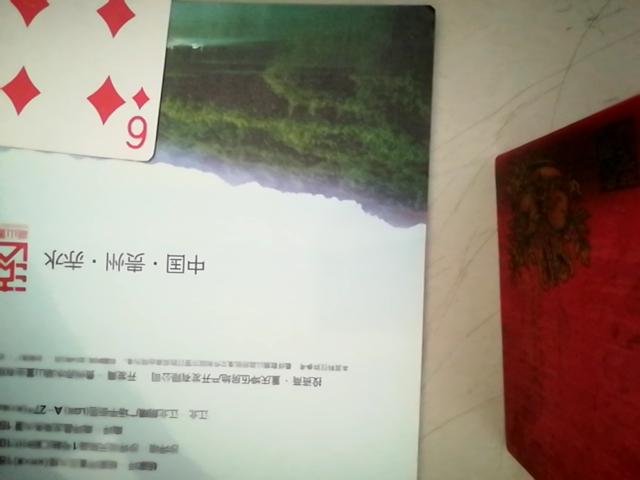fk 6: (0, 0, 189, 165)
